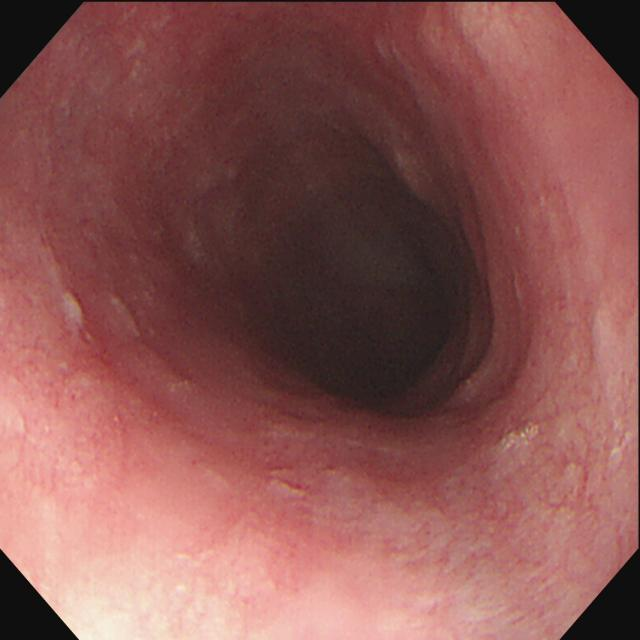E: (299, 265, 474, 442)
J: (110, 291, 142, 339), (59, 282, 86, 328), (501, 421, 540, 451)
